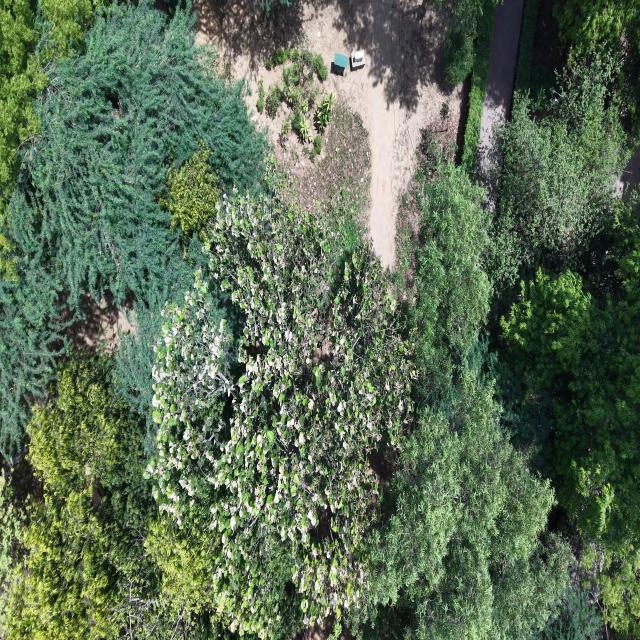DRY_AREA: (194, 0, 461, 268), (479, 0, 522, 174), (480, 0, 522, 162), (67, 293, 135, 351), (619, 147, 639, 193)
VEGETATION_TREE: (0, 0, 639, 639), (9, 165, 569, 638), (148, 165, 569, 637), (2, 3, 263, 637), (0, 3, 264, 448), (149, 192, 413, 634), (365, 164, 570, 638), (488, 23, 639, 637), (7, 6, 264, 304), (0, 352, 210, 639), (502, 203, 639, 634), (365, 370, 570, 638), (5, 355, 153, 639), (503, 238, 639, 539), (489, 54, 627, 291), (0, 0, 93, 280), (397, 156, 490, 407), (0, 0, 94, 221), (0, 251, 69, 455), (546, 0, 639, 139), (554, 0, 639, 138), (0, 0, 46, 211), (296, 102, 371, 226), (266, 35, 327, 143), (462, 0, 494, 177), (584, 539, 639, 637), (166, 144, 220, 242), (436, 0, 496, 84), (267, 36, 326, 117), (36, 0, 108, 55), (531, 586, 602, 639), (555, 0, 637, 45), (0, 469, 21, 629), (282, 49, 319, 114), (514, 0, 539, 94), (522, 64, 561, 116), (444, 22, 476, 85), (417, 128, 453, 178), (316, 92, 336, 131), (265, 48, 295, 70), (292, 111, 312, 143), (265, 83, 282, 119), (266, 48, 291, 70), (260, 0, 291, 16), (279, 114, 293, 146), (313, 54, 328, 82), (310, 134, 322, 161), (291, 112, 304, 133), (440, 101, 450, 128), (257, 80, 265, 113), (314, 135, 322, 154)
